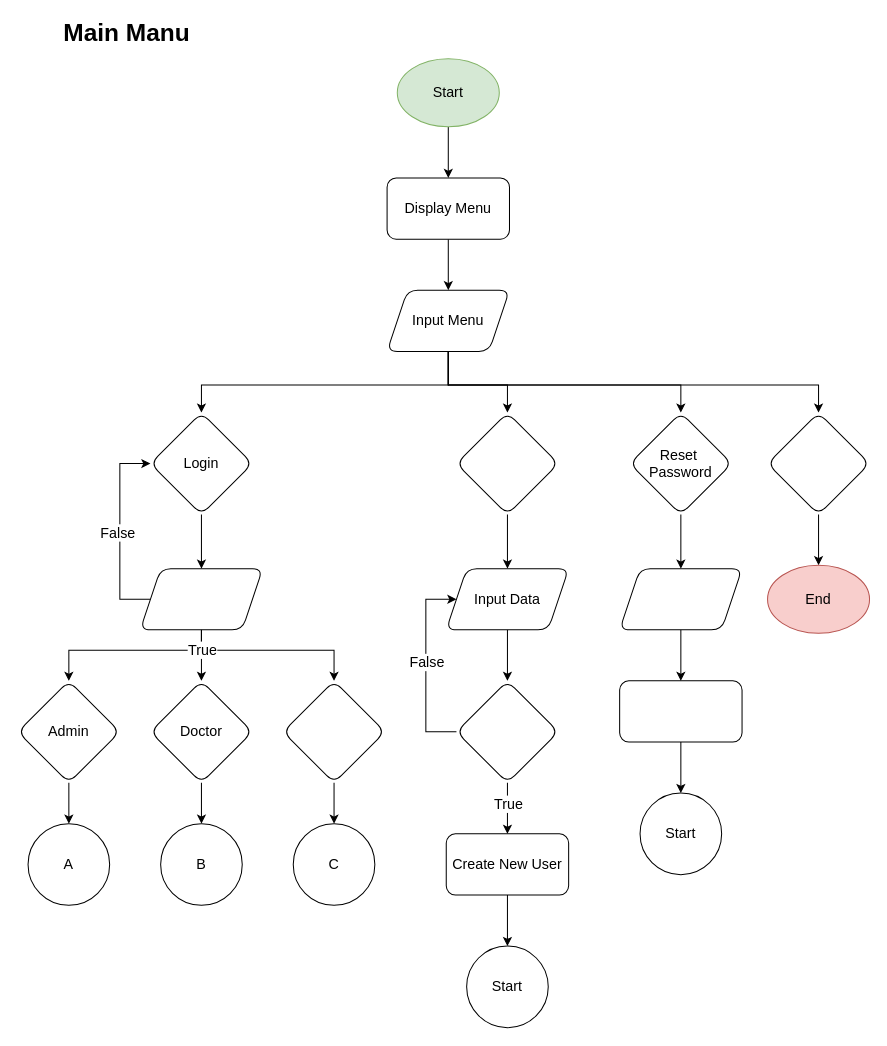
The diagram is 887 pixels wide and 1046 high, and some of its shapes have lost their labels. Here are the shapes that lost their labels. From the top down, the centre of each, then its label:
At pixel 506 463: "Register".
At pixel 818 463: "Exit".
At pixel 201 599: "Input Login".
At pixel 680 599: "Input User".
At pixel 333 731: "User".
At pixel 506 731: "Username not exist".
At pixel 680 711: "Update Password".
